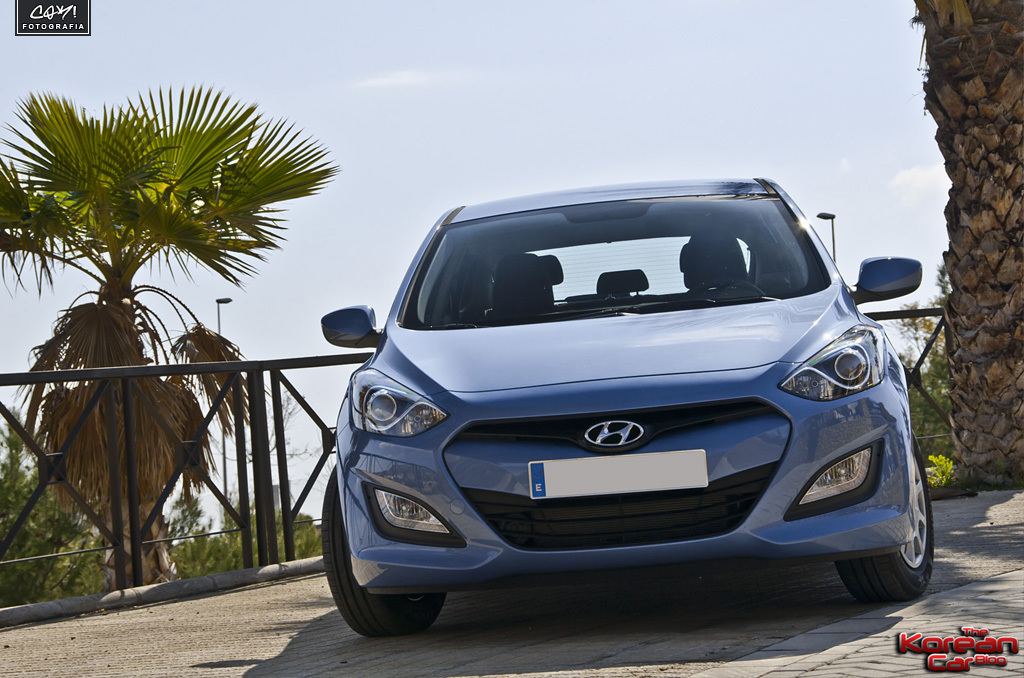Car: (300, 180, 917, 624)
